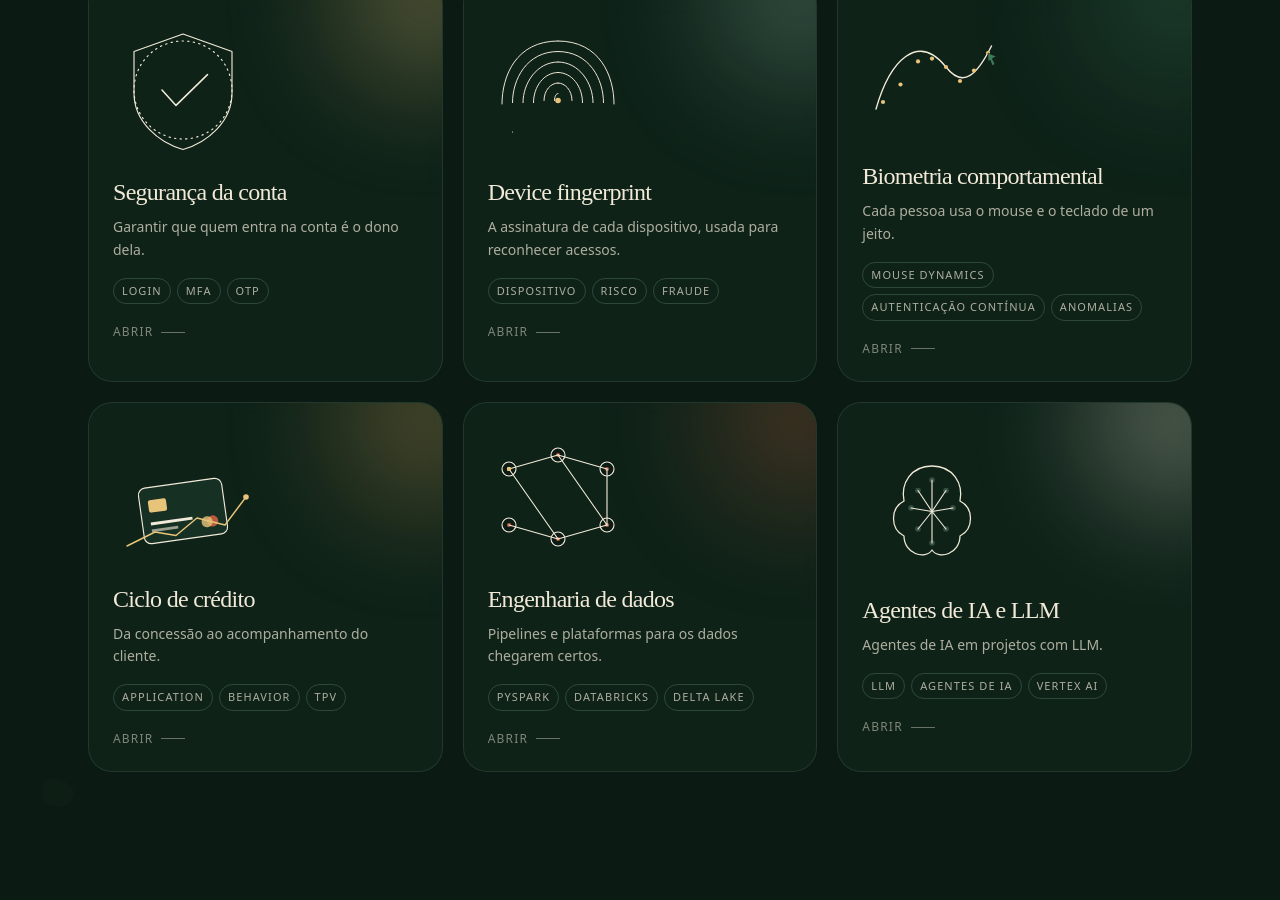
Test: Expertise › abre a explicação de "Engenharia de dados"
(page scrolled)
Click the button "Engenharia de dados".
click(640, 586)  # box [463,402,817,772]
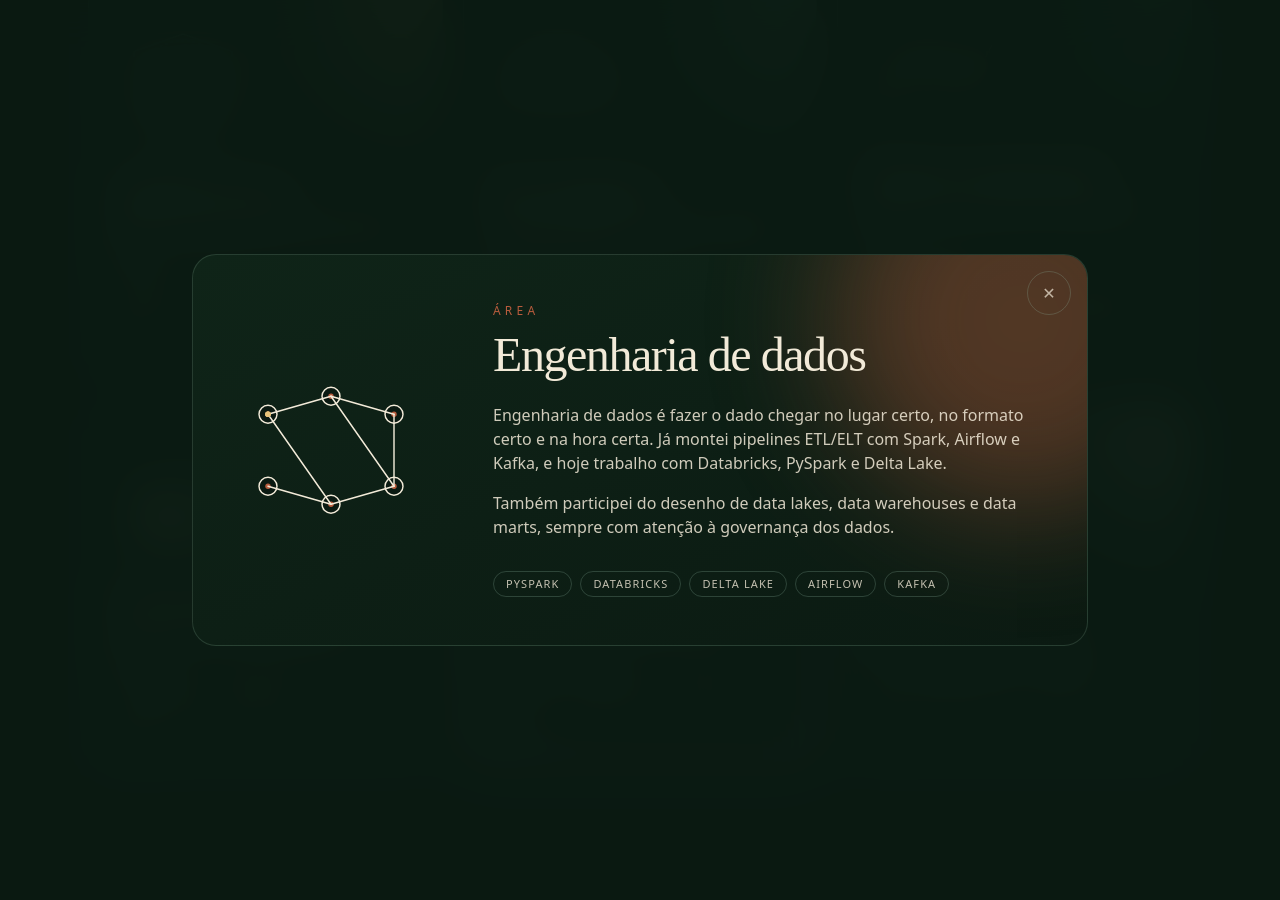
Check: the text "Engenharia de dados é fazer o dado chegar no lugar certo, no formato certo e na hora certa. Já montei pipelines ETL/ELT " is shown, box [493,404,1023,474]
